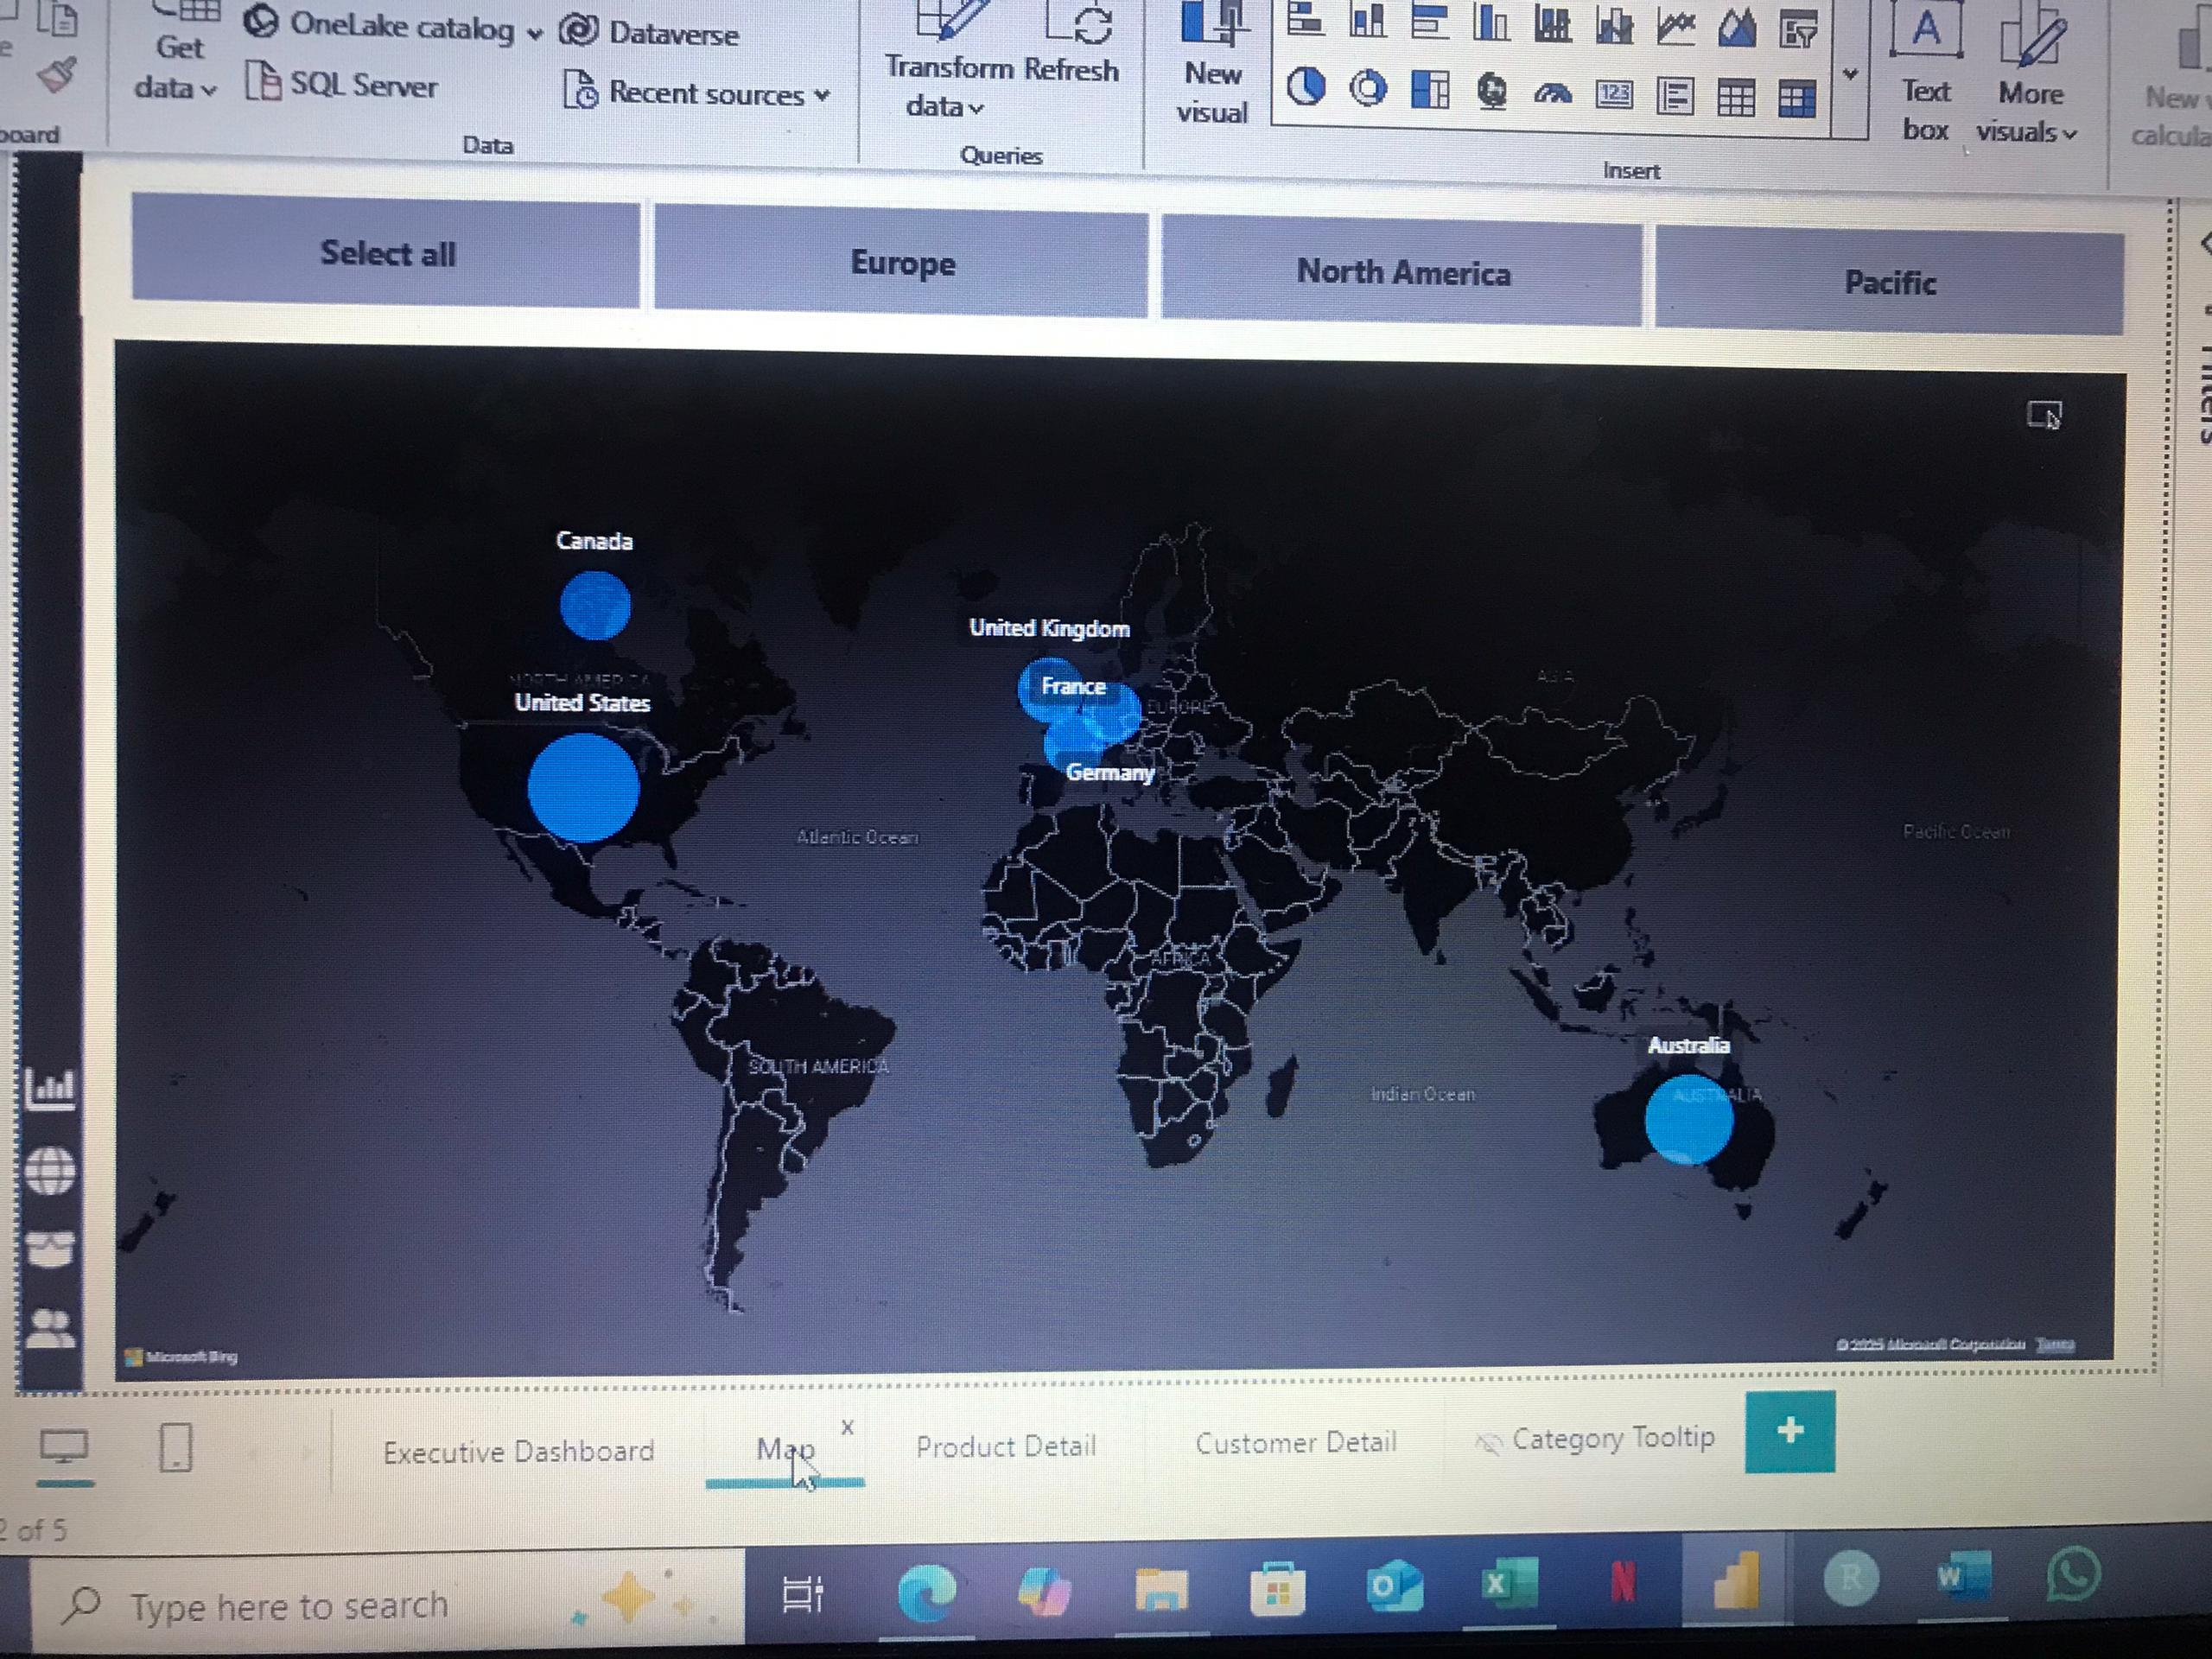

What the dashboard file says about the page in this screenshot:
{"tool":"powerbi","page":{"name":"Map","canvas":[1280,720],"ordinal":1},"visuals":[{"type":"shape","box":[0,0,36.7,720],"z":0},{"type":"actionButton","box":[0,524.2,36,38.9],"z":0,"group":"g1"},{"type":"actionButton","box":[0,617.8,36,38.9],"z":1000,"group":"g1"},{"type":"map","fields":{"Category":["Territory Lookup.Country"],"Size":["Measure Table.Total Order"]},"box":[50.4,103.7,1209.6,616.3],"z":1000},{"type":"slicer","fields":{"Values":["Territory Lookup.Continent"]},"box":[35.8,13,1244.2,82.1],"z":2000},{"type":"actionButton","box":[0,663.9,36,38.9],"z":2000,"group":"g1"},{"type":"actionButton","box":[0,571,36,38.9],"z":3000,"group":"g1"},{"type":"group","id":"g1","title":"Navigation Buttons","box":[0,524.2,36,178.6],"z":3000}]}

Visuals, with their boxes in screenshot pixels (x1, y1, x2, y2):
shape: box(11, 184, 72, 1368)
actionButton: box(11, 1046, 71, 1110)
actionButton: box(11, 1200, 71, 1264)
map - Territory Lookup.Country x Measure Table.Total Order: box(94, 354, 2082, 1368)
slicer - Territory Lookup.Continent: box(70, 206, 2115, 340)
actionButton: box(11, 1275, 71, 1339)
actionButton: box(11, 1123, 71, 1187)
"Navigation Buttons" group: box(11, 1046, 71, 1339)
